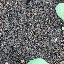Purslane: (0, 54, 64, 64), (51, 0, 64, 38)
